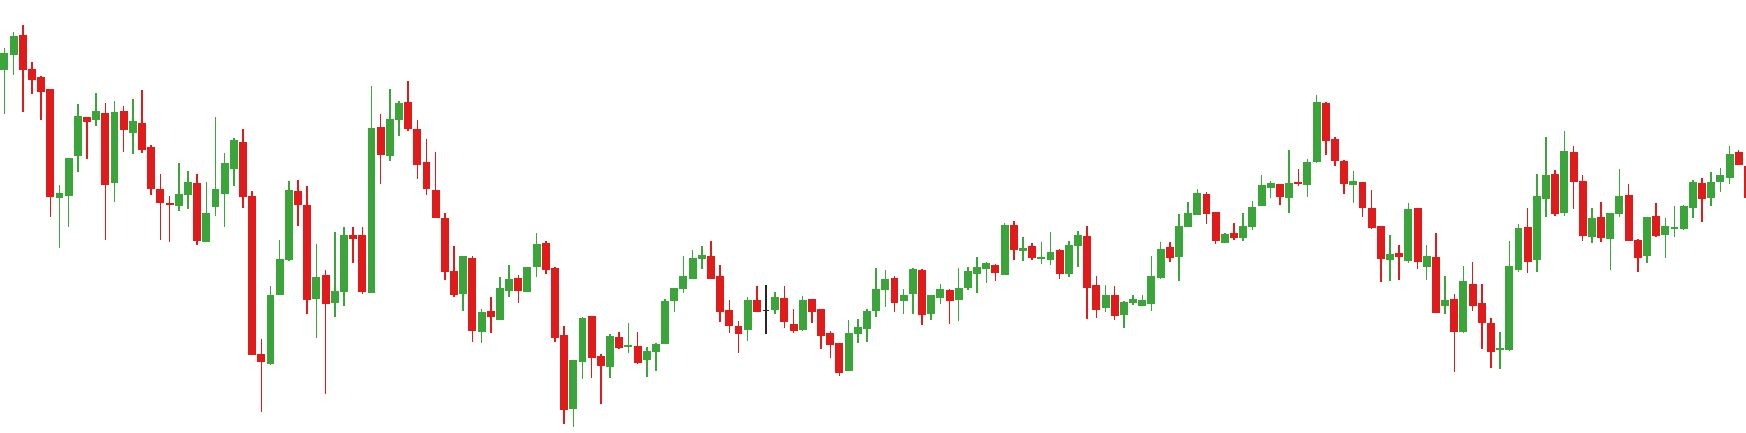buy: (465, 263, 587, 425), (734, 294, 856, 382), (1449, 275, 1504, 377)
sell: (229, 81, 385, 268)
